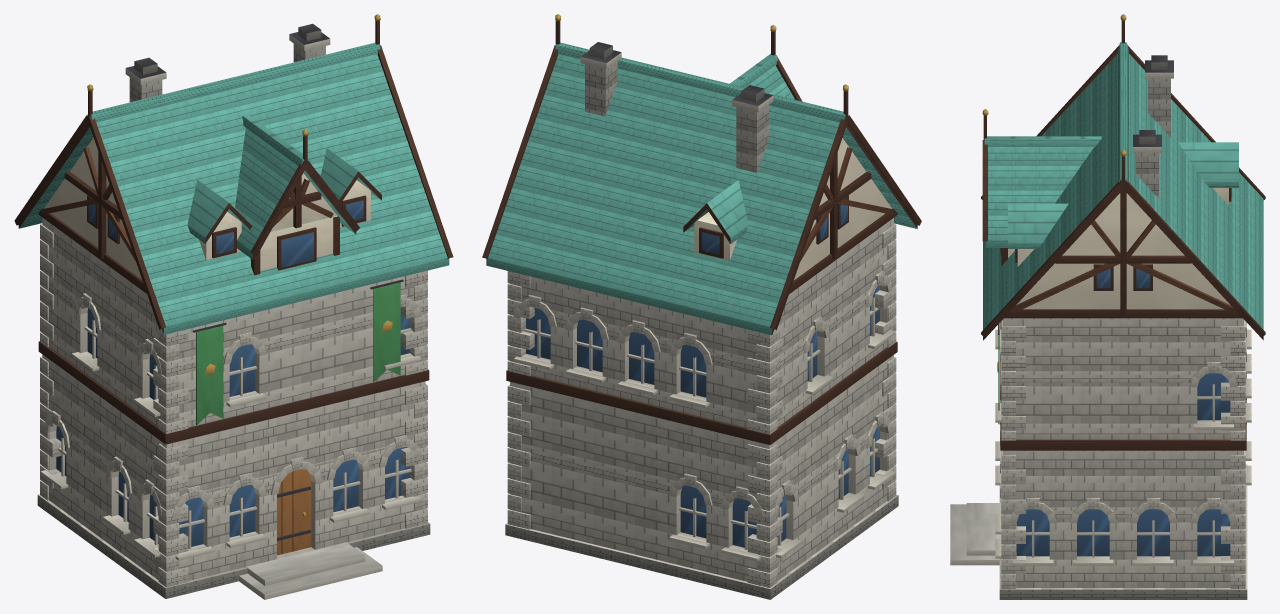
File: civ_library_01.glb
3 views of the same model, side by side, from view 1: azimuth 30°, elevation 25°; view 2: azimuth 150°, elevation 25°; view 3: azimuth 270°, elevation 25° (orthographic). The views are drawn at different scales.
Visible parts, largest first — view 1: civ_library_01; view 2: civ_library_01; view 3: civ_library_01.
Part boxes in pixels (x1,y1,x2,y2): civ_library_01: (14, 14, 453, 599); civ_library_01: (482, 14, 921, 599); civ_library_01: (950, 14, 1265, 599).
Bounding box in the file's own units: 9.91 × 15.25 × 9.57.
Materials: 1 (1 with a texture image).
